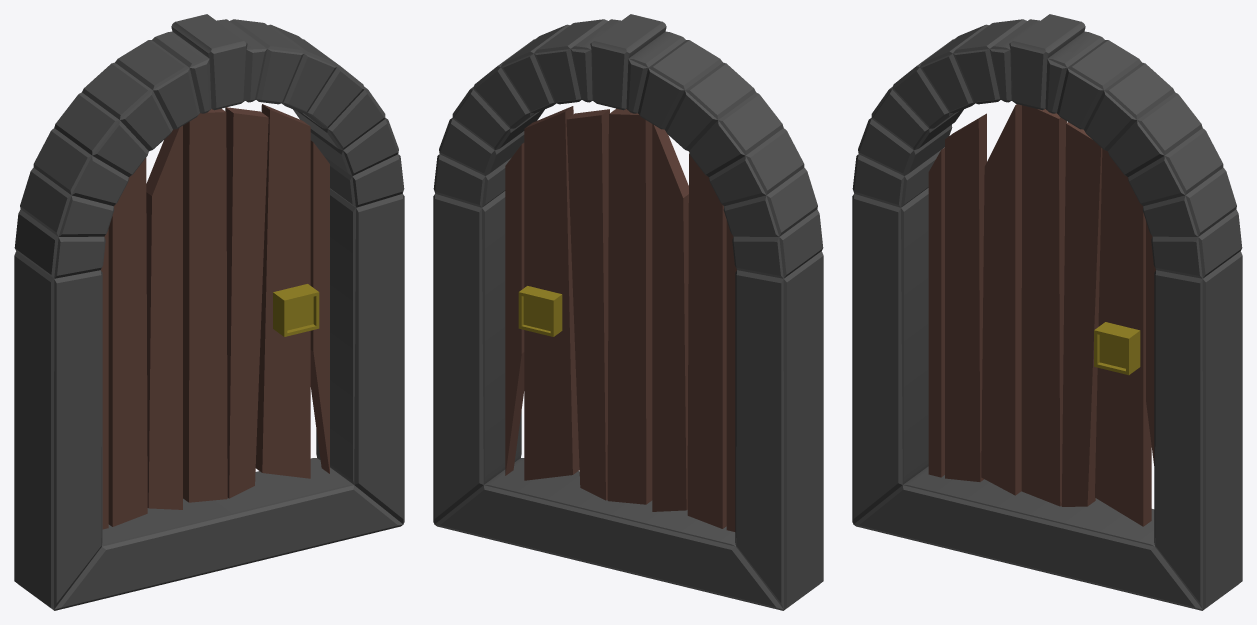
File: ArchDoor.fbx
3 renders of one model, left to right at view 1: azimuth 30°, elevation 25°; view 2: azimuth 150°, elevation 25°; view 3: azimuth 330°, elevation 25°, orthographic.
Visible parts, largest first — view 1: Door; view 2: Door; view 3: Door.
Part boxes in pixels (x1,y1,x2,y2): Door: (14,14,404,610); Door: (433,14,823,610); Door: (852,14,1242,610).
Bounding box in the file's own units: 500 × 708 × 100.
